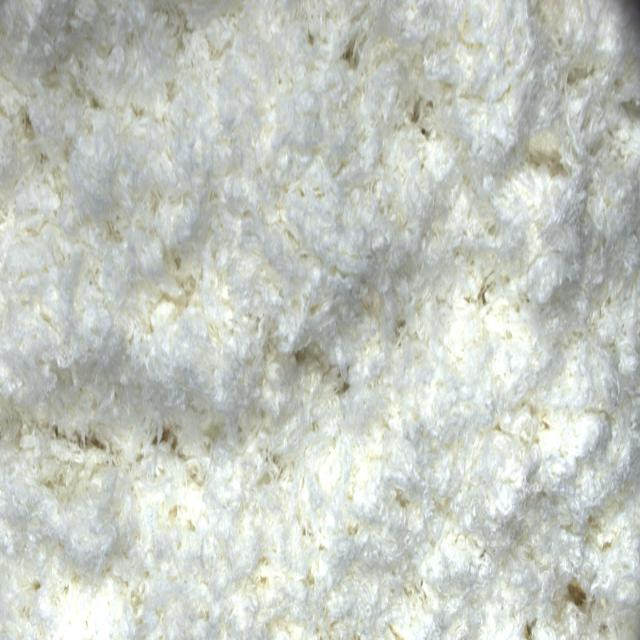dust: (410, 104, 434, 145), (568, 567, 587, 617)
